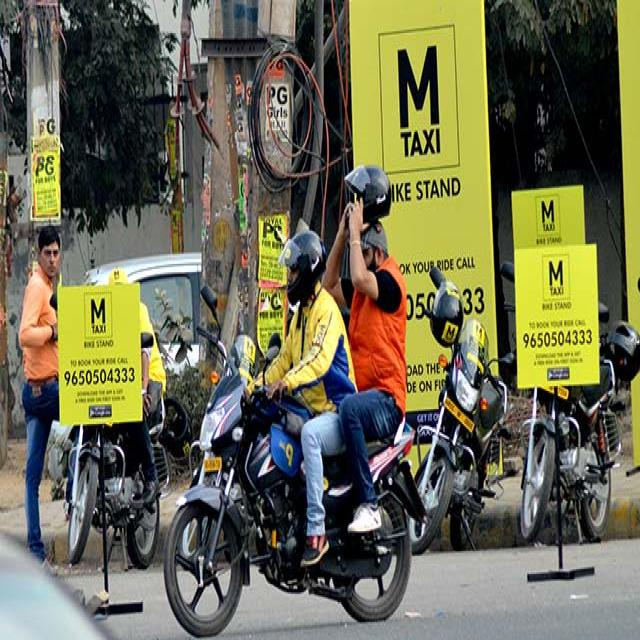helmet: (271, 231, 332, 314), (345, 161, 397, 229)
